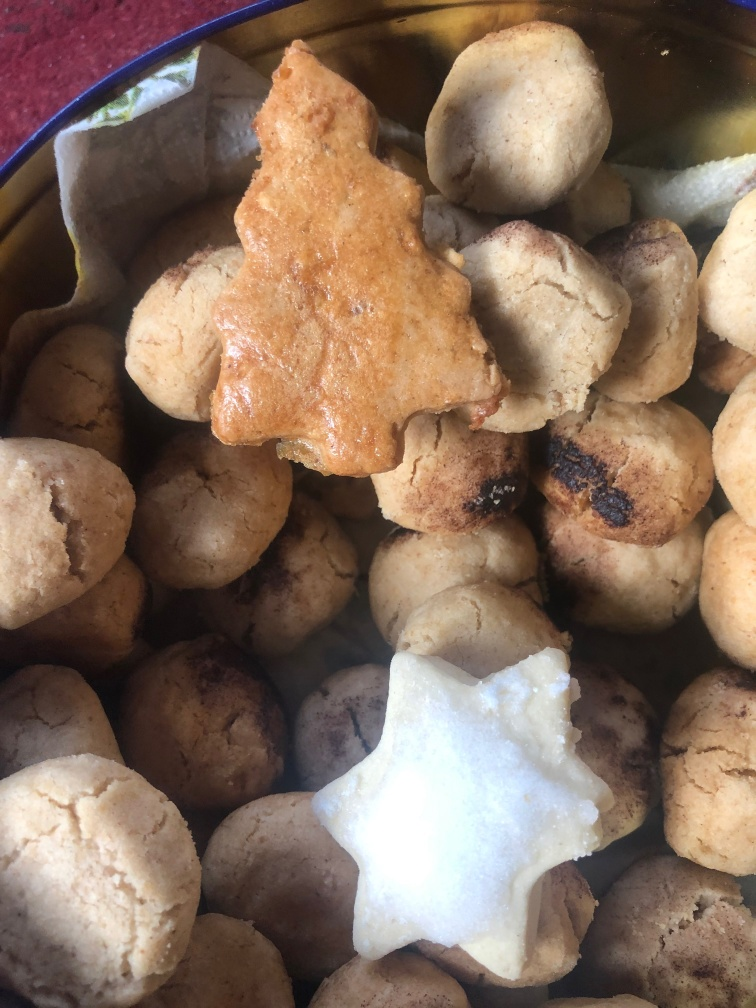christmas tree: (196, 32, 506, 483)
snowball: (2, 756, 202, 1002), (419, 17, 613, 214), (463, 219, 625, 438), (202, 780, 370, 969), (1, 435, 139, 629), (203, 497, 363, 655), (546, 396, 712, 543), (667, 673, 756, 873)
star: (305, 638, 612, 981)
